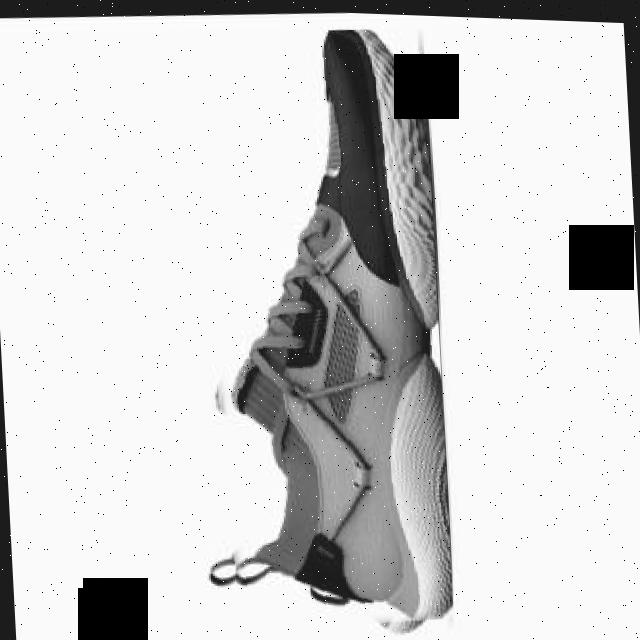shoe: (183, 18, 454, 638)
